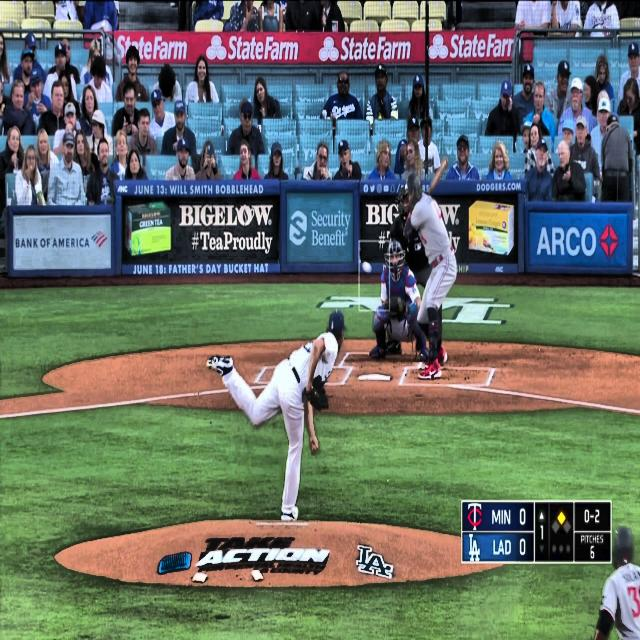baseball: (362, 260, 372, 274)
